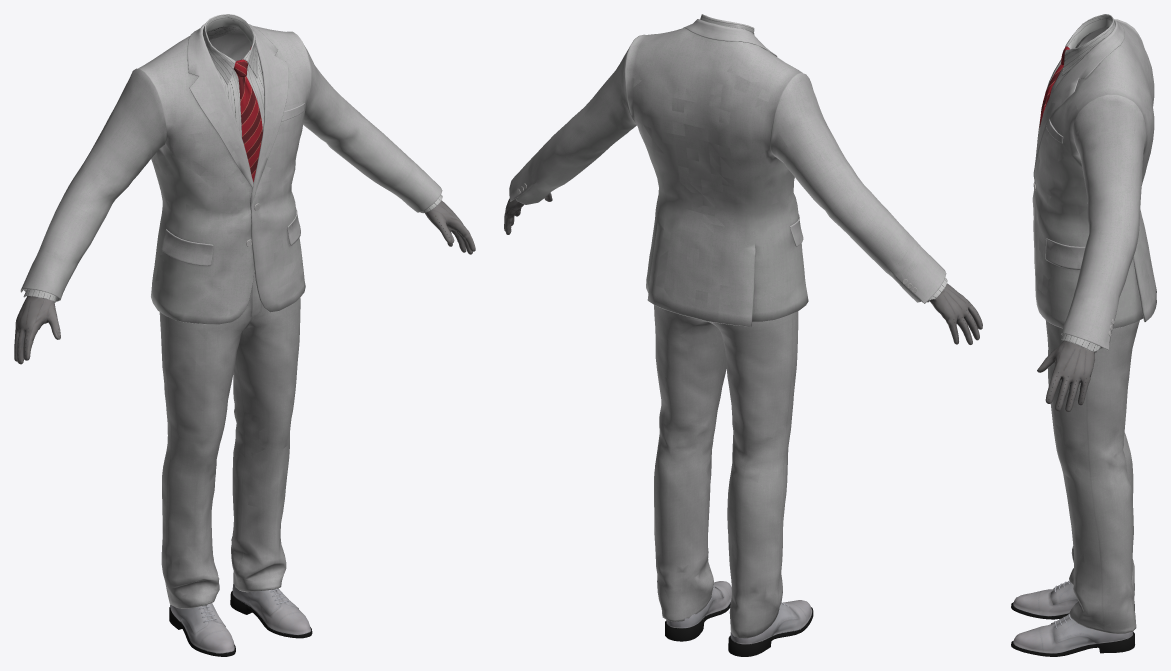
The model's file is final_suit.glb.
The picture shows the model from 3 angles, left to right: view 1: azimuth 30°, elevation 25°; view 2: azimuth 150°, elevation 25°; view 3: azimuth 270°, elevation 25°; orthographic projection. The views are drawn at different scales.
Parts seen in each view (by area): view 1: 00D97111BBE50AED.PRIM_5_3, 00D97111BBE50AED.PRIM_4_1, 00D97111BBE50AED.PRIM_1_0, 00D97111BBE50AED.PRIM_16_4, 00C448EDCED92510.PRIM_0_5, 00D97111BBE50AED.PRIM_3_2; view 2: 00D97111BBE50AED.PRIM_5_3, 00D97111BBE50AED.PRIM_4_1, 00D97111BBE50AED.PRIM_1_0, 00C448EDCED92510.PRIM_0_5; view 3: 00D97111BBE50AED.PRIM_5_3, 00D97111BBE50AED.PRIM_4_1, 00D97111BBE50AED.PRIM_1_0, 00C448EDCED92510.PRIM_0_5, 00D97111BBE50AED.PRIM_16_4, 00D97111BBE50AED.PRIM_3_2.
Part boxes in pixels (left/top/right/bottom): 00D97111BBE50AED.PRIM_5_3: left=20, top=23, right=442, bottom=324; 00D97111BBE50AED.PRIM_4_1: left=159, top=270, right=300, bottom=608; 00D97111BBE50AED.PRIM_1_0: left=169, top=584, right=312, bottom=656; 00D97111BBE50AED.PRIM_16_4: left=23, top=14, right=442, bottom=302; 00C448EDCED92510.PRIM_0_5: left=14, top=200, right=475, bottom=364; 00D97111BBE50AED.PRIM_3_2: left=233, top=47, right=262, bottom=182; 00D97111BBE50AED.PRIM_5_3: left=509, top=19, right=946, bottom=326; 00D97111BBE50AED.PRIM_4_1: left=654, top=305, right=798, bottom=638; 00D97111BBE50AED.PRIM_1_0: left=665, top=581, right=813, bottom=656; 00C448EDCED92510.PRIM_0_5: left=504, top=193, right=982, bottom=344; 00D97111BBE50AED.PRIM_5_3: left=1032, top=18, right=1156, bottom=350; 00D97111BBE50AED.PRIM_4_1: left=1045, top=320, right=1139, bottom=633; 00D97111BBE50AED.PRIM_1_0: left=1011, top=580, right=1134, bottom=656; 00C448EDCED92510.PRIM_0_5: left=1037, top=340, right=1095, bottom=411; 00D97111BBE50AED.PRIM_16_4: left=1049, top=14, right=1114, bottom=352; 00D97111BBE50AED.PRIM_3_2: left=1039, top=46, right=1069, bottom=129.
Bounding box in the file's own units: 1.3 × 1.64 × 0.3543.
Materials: 6 (6 with a texture image).
